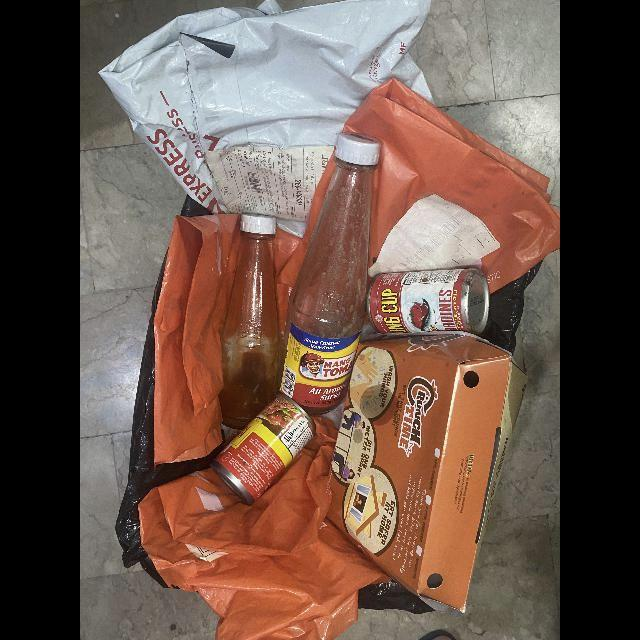aluminum: (210, 394, 316, 506), (366, 269, 489, 335)
cardboard: (327, 329, 527, 612)
glass_bottle: (277, 133, 380, 416), (219, 214, 284, 430)
plastic_bag: (97, 0, 434, 238), (138, 416, 390, 640), (342, 79, 560, 295), (153, 213, 306, 466), (283, 153, 336, 288)
